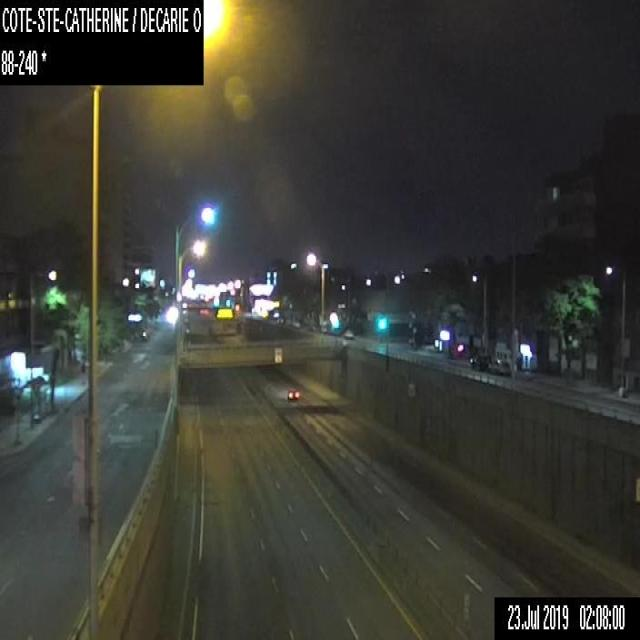vehicle: (468, 353, 488, 370), (487, 359, 510, 373), (287, 388, 299, 400)
